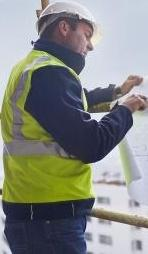hard-hat: (36, 0, 100, 44)
vest: (0, 89, 23, 167)
